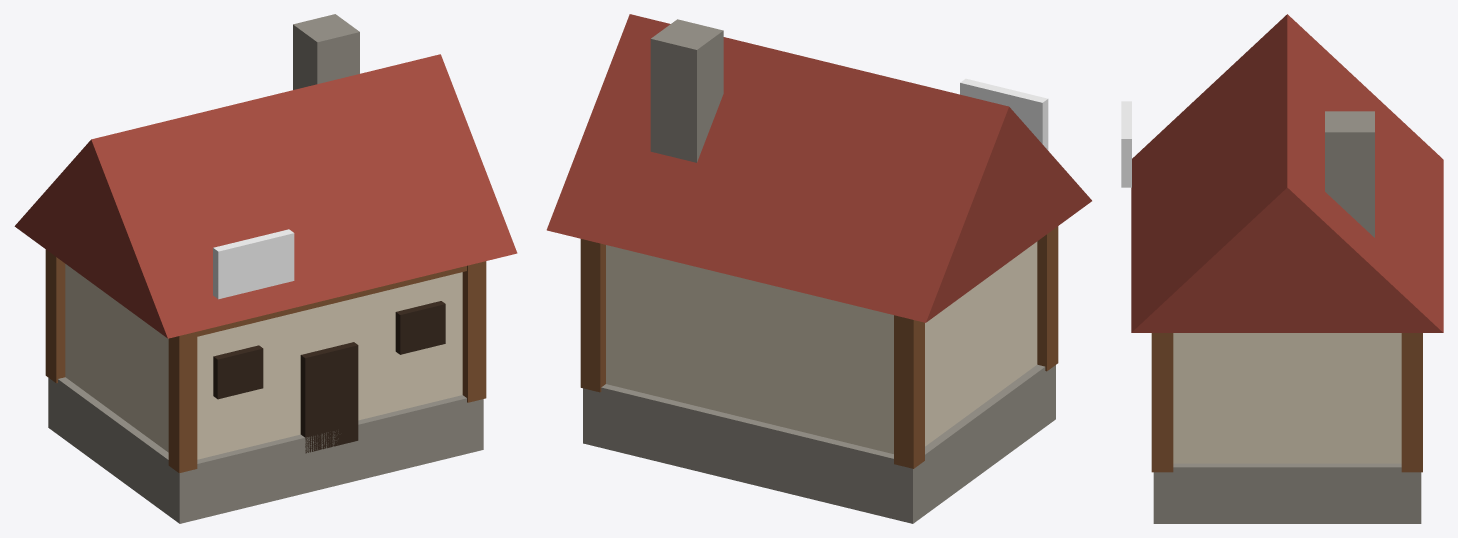
The model's file is house.glb.
3 renders of one model, left to right at view 1: azimuth 30°, elevation 25°; view 2: azimuth 150°, elevation 25°; view 3: azimuth 270°, elevation 25°, orthographic. The views are drawn at different scales.
Parts seen in each view (by area): view 1: house; view 2: house; view 3: house.
Part boxes in pixels (x1,y1,x2,y2): house: (14,14,517,523); house: (546,14,1091,523); house: (1121,14,1443,523).
Size of the model in its own units: 2.3 by 2.3 by 1.8.
